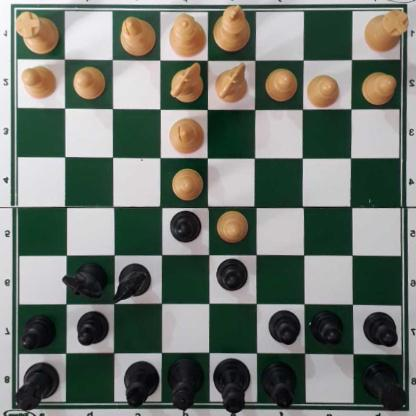black-bishop: (260, 361, 297, 412), (122, 363, 159, 411)
black-king: (213, 359, 251, 414)
black-knight: (65, 263, 105, 301), (112, 266, 151, 304)
black-pawn: (362, 312, 397, 349), (215, 260, 249, 296), (22, 317, 56, 352), (311, 313, 343, 349), (76, 312, 107, 349), (169, 211, 202, 245), (268, 311, 299, 345)
black-queen: (166, 360, 205, 411)
black-rook: (14, 363, 61, 415), (360, 364, 403, 410)
white-bishop: (119, 16, 154, 58), (169, 119, 204, 156)
white-king: (213, 5, 249, 56)
white-knight: (214, 65, 248, 104), (170, 64, 204, 102)
white-pawn: (19, 66, 58, 100), (361, 72, 397, 106), (72, 68, 106, 101), (306, 74, 339, 108), (264, 70, 298, 103), (215, 213, 249, 245), (171, 170, 203, 204)
white-queen: (169, 11, 204, 62)
white-rook: (363, 10, 409, 54), (14, 13, 59, 56)
